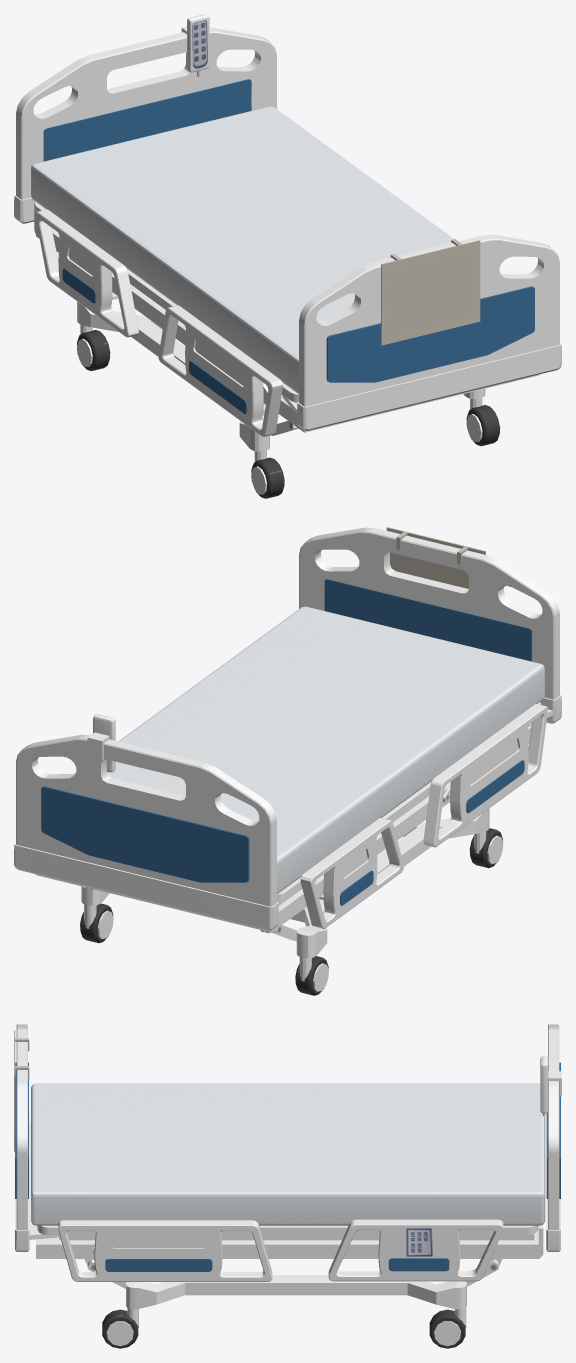
Rendered from giuongbenh.fbx.
The picture shows the model from 3 angles, top to bottom: view 1: azimuth 30°, elevation 25°; view 2: azimuth 150°, elevation 25°; view 3: azimuth 270°, elevation 25°; orthographic projection. The views are drawn at different scales.
Visible parts, largest first — view 1: phongbenh_test:giuong; view 2: phongbenh_test:giuong; view 3: phongbenh_test:giuong.
Boxes of the visible parts, bbox=[...] form: phongbenh_test:giuong: bbox=[14, 14, 561, 498]; phongbenh_test:giuong: bbox=[14, 527, 561, 995]; phongbenh_test:giuong: bbox=[14, 1024, 561, 1348].
Bounding box in the file's own units: 46.97 × 44.81 × 85.85.
